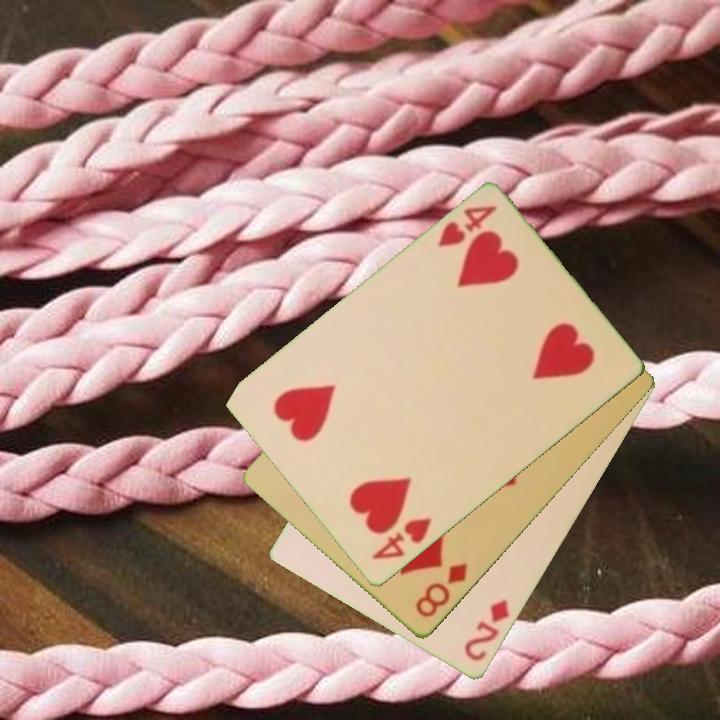2d: (460, 596, 512, 665)
4h: (368, 514, 435, 564), (434, 202, 500, 251)
8d: (411, 560, 471, 622)
